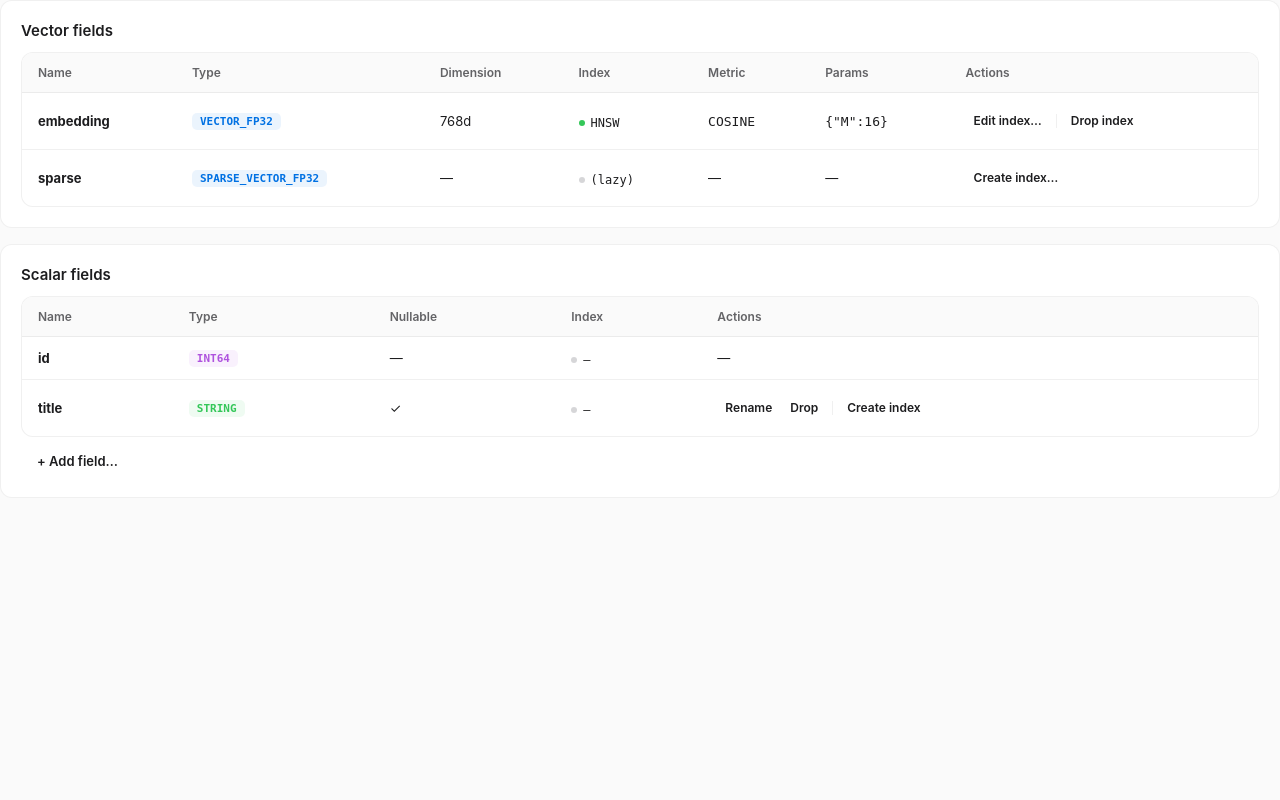
SchemaPanelDdl › locks sparse vector index metric to IP
Click the button with test id "zv-schema-create-index-sparse" at (1016, 178), box [966, 162, 1066, 194]
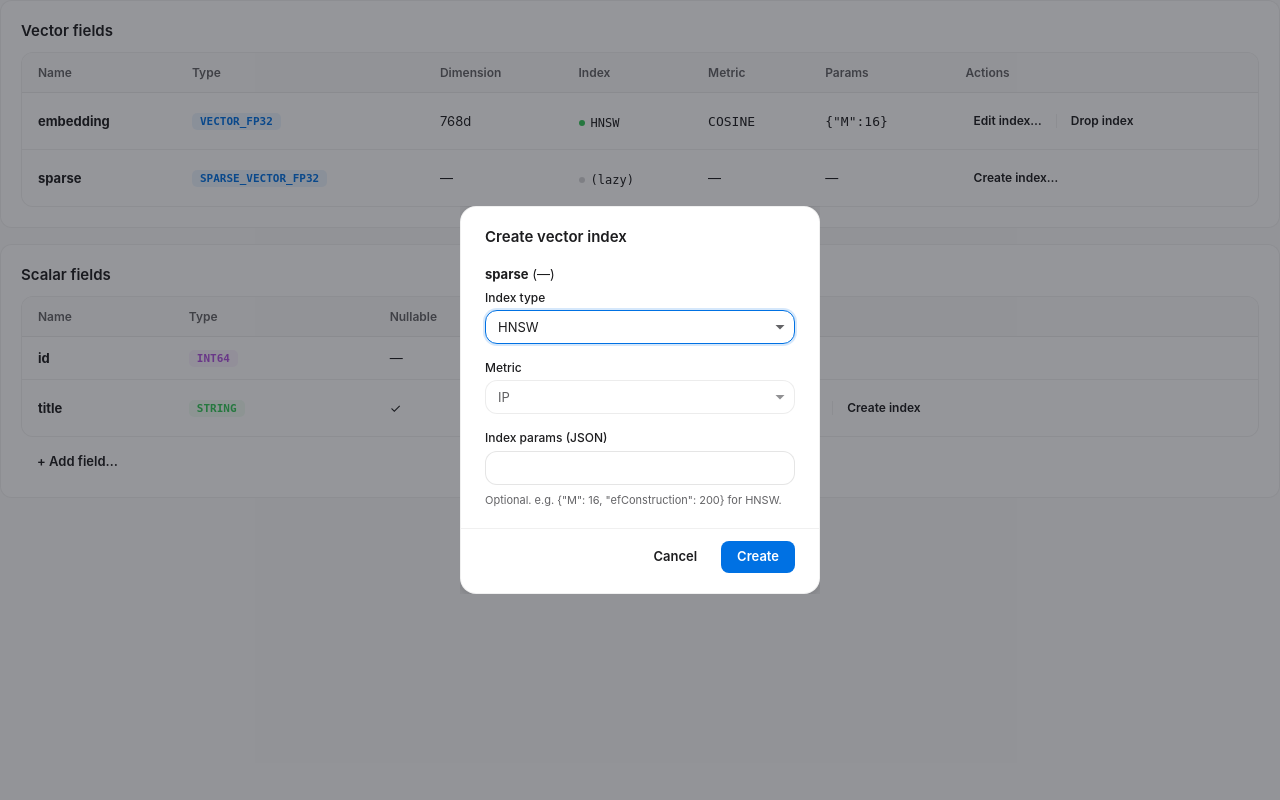
Expected: the dropdown with test id "zv-schema-create-index-metric" shows "IP", [485, 380, 795, 414]
Expected: the dropdown with test id "zv-schema-create-index-metric" is disabled, [485, 380, 795, 414]
